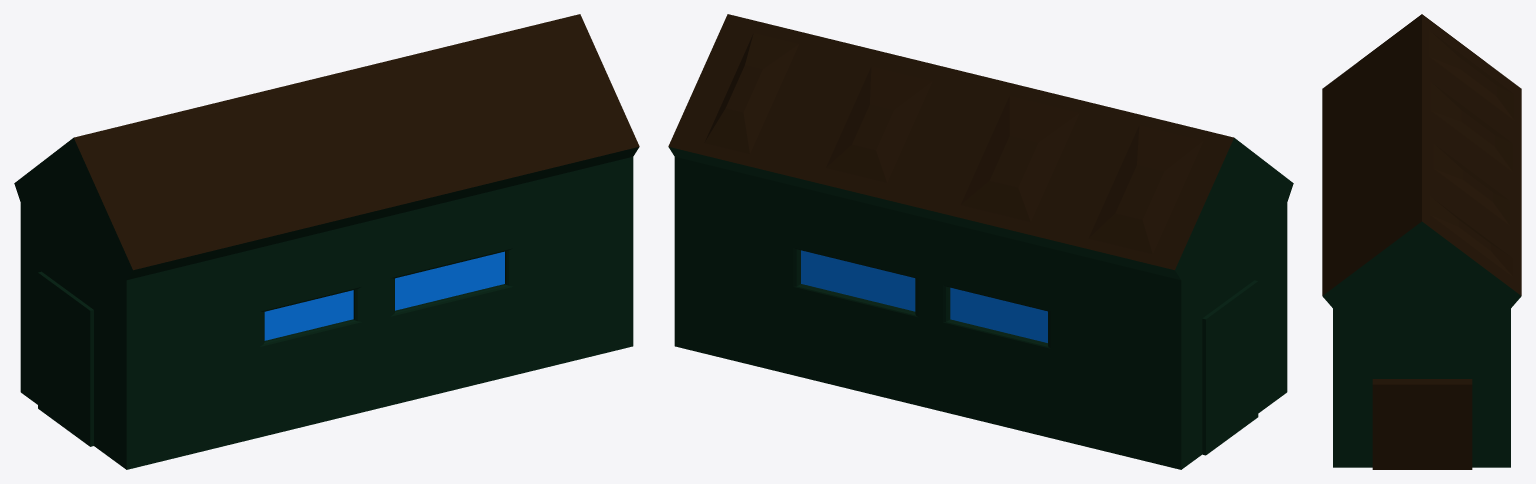
Rendered from Garage.fbx.
The picture shows the model from 3 angles, left to right: view 1: azimuth 30°, elevation 25°; view 2: azimuth 150°, elevation 25°; view 3: azimuth 270°, elevation 25°; orthographic projection. The views are drawn at different scales.
Visible parts, largest first — view 1: Garage; view 2: Garage; view 3: Garage.
Part boxes in pixels (x1,y1,x2,y2): Garage: (14, 14, 639, 469); Garage: (668, 14, 1293, 469); Garage: (1322, 14, 1521, 469).
Size of the model in its own units: 682 by 365 by 268.
